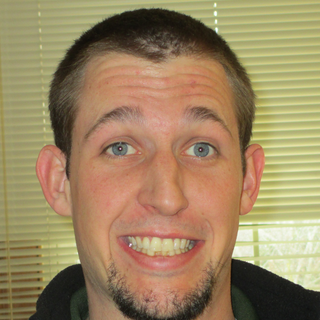eye: (96, 138, 143, 163), (177, 138, 222, 164)
